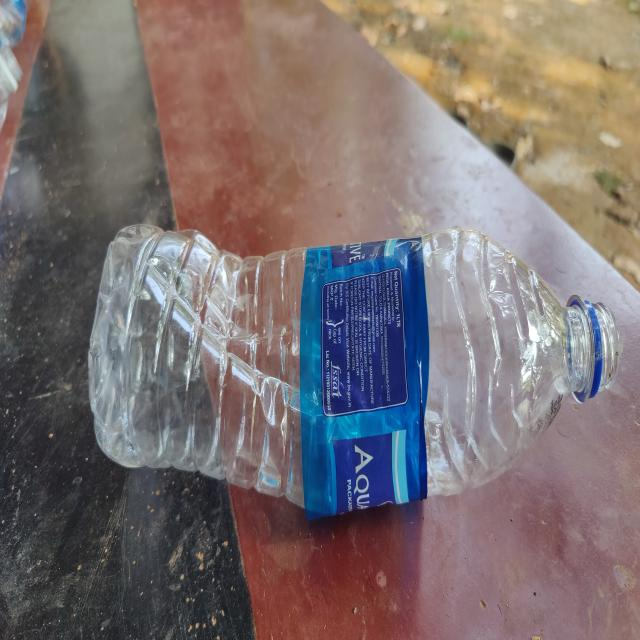plastic: (85, 216, 621, 514)
